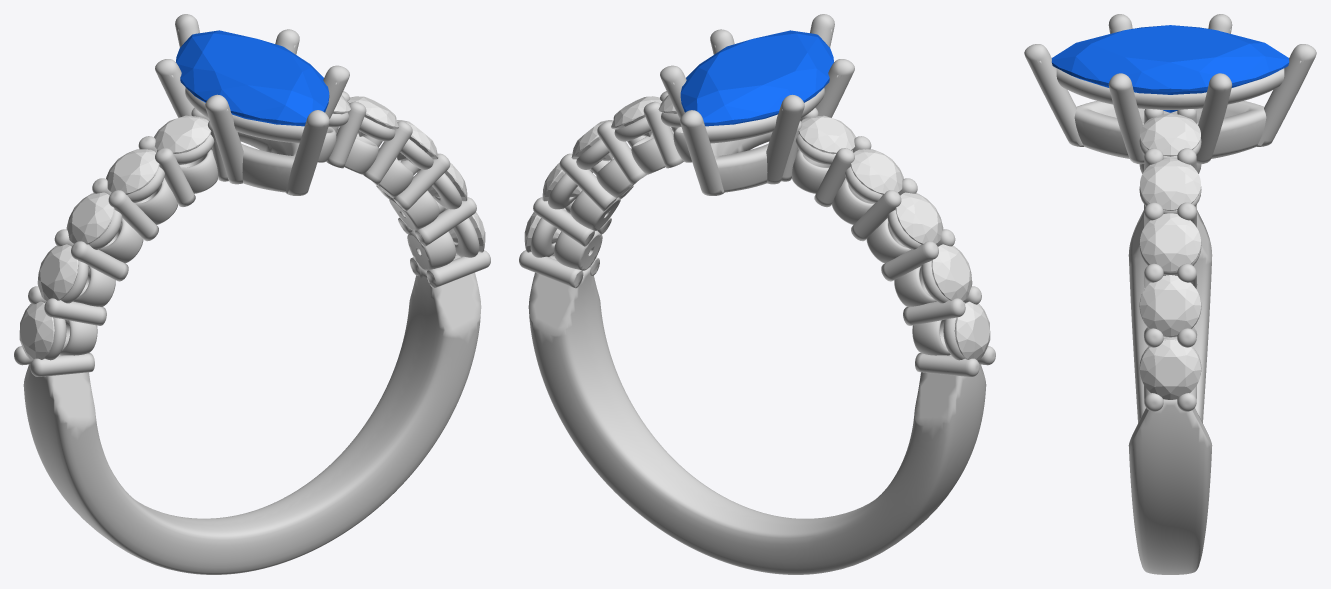
Rendered from bluesapphire-marquise-platinum-6prong-straighttaperedband-11stone.glb.
3 renders of one model, left to right at view 1: azimuth 30°, elevation 25°; view 2: azimuth 150°, elevation 25°; view 3: azimuth 270°, elevation 25°, orthographic.
Parts seen in each view (by area): view 1: metal.001, stone.001, side.012, side.013, side.011, side.010, side.014, side.018; view 2: metal.001, stone.001, side.012, side.013, side.011, side.010, side.014, side.018; view 3: metal.001, stone.001, side.016, side.015, side.017, side.018, side.019.
Part boxes in pixels (bbox=[...]): metal.001: bbox=[14, 14, 490, 574]; stone.001: bbox=[176, 30, 329, 126]; side.012: bbox=[66, 192, 114, 244]; side.013: bbox=[106, 149, 159, 194]; side.011: bbox=[37, 244, 78, 300]; side.010: bbox=[19, 301, 55, 360]; side.014: bbox=[154, 115, 211, 153]; side.018: bbox=[347, 96, 398, 136]; metal.001: bbox=[519, 14, 995, 574]; stone.001: bbox=[680, 30, 833, 126]; side.012: bbox=[895, 192, 943, 244]; side.013: bbox=[850, 149, 903, 194]; side.011: bbox=[931, 244, 972, 300]; side.010: bbox=[954, 301, 990, 360]; side.014: bbox=[798, 115, 855, 154]; side.018: bbox=[611, 96, 662, 136]; metal.001: bbox=[1024, 14, 1316, 574]; stone.001: bbox=[1051, 25, 1289, 112]; side.016: bbox=[1140, 275, 1200, 335]; side.015: bbox=[1140, 339, 1200, 399]; side.017: bbox=[1140, 213, 1200, 271]; side.018: bbox=[1140, 158, 1200, 210]; side.019: bbox=[1140, 113, 1200, 156].
Size of the model in its own units: 21.88 by 22.94 by 11.96.
